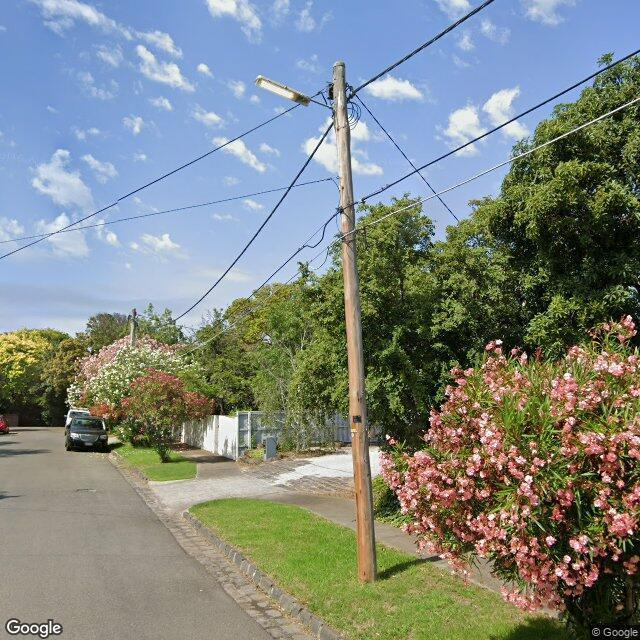streetlight: (254, 75, 334, 112)
timber-pole: (333, 61, 378, 583)
